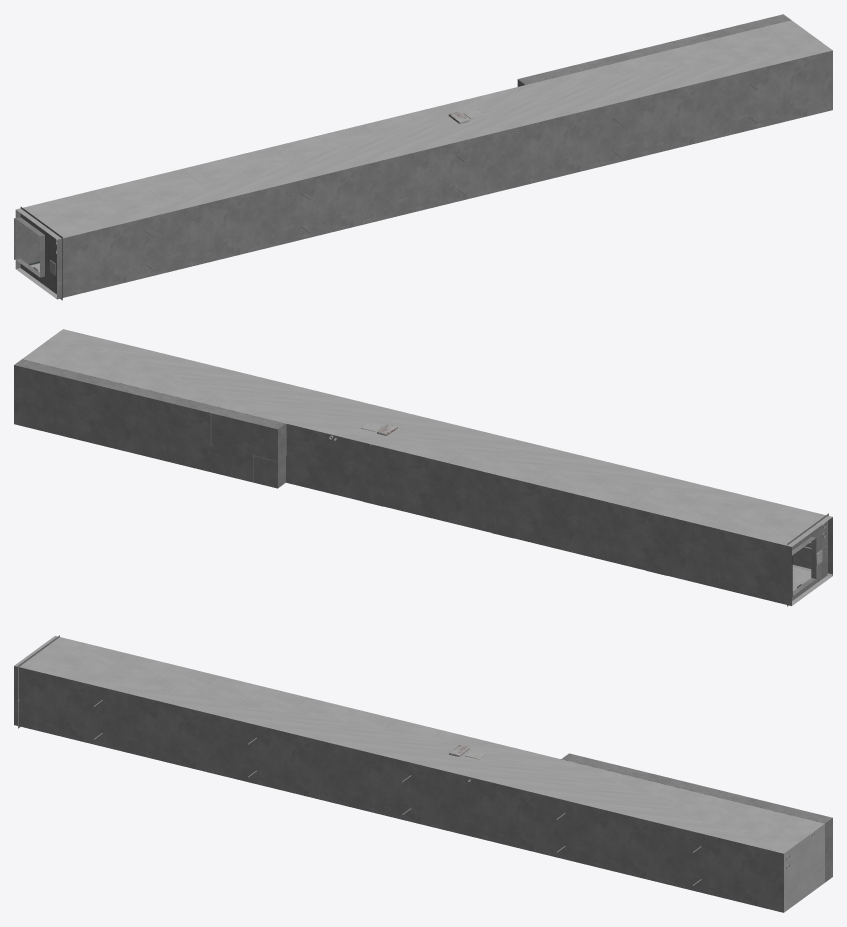
The model's file is corridor.obj.
3 views of the same model, one above another, from view 1: azimuth 30°, elevation 25°; view 2: azimuth 150°, elevation 25°; view 3: azimuth 330°, elevation 25° (orthographic).
Parts seen in each view (by area): view 1: corridor_corridor_ceiling_01, corridor_corridor_wall_01, corridor_corridor_wall_02, corridor_corridor_floor_01; view 2: corridor_corridor_floor_01, corridor_corridor_wall_01, corridor_corridor_wall_02, corridor_corridor_ceiling_01; view 3: corridor_corridor_ceiling_01, corridor_corridor_wall_01, corridor_corridor_wall_02.
Part boxes in pixels (box(x1,y1,x2,y2)): corridor_corridor_ceiling_01: box(57, 50, 832, 299); corridor_corridor_wall_01: box(16, 20, 832, 298); corridor_corridor_wall_02: box(16, 14, 791, 300); corridor_corridor_floor_01: box(15, 79, 524, 268); corridor_corridor_floor_01: box(14, 365, 791, 605); corridor_corridor_wall_01: box(22, 329, 832, 605); corridor_corridor_wall_02: box(14, 359, 828, 606); corridor_corridor_ceiling_01: box(792, 517, 832, 575); corridor_corridor_ceiling_01: box(14, 666, 783, 912); corridor_corridor_wall_01: box(14, 636, 824, 912); corridor_corridor_wall_02: box(18, 635, 832, 882).
Size of the model in its own units: 48.59 by 3.79 by 6.26.
Materials: 16 (14 with a texture image).
